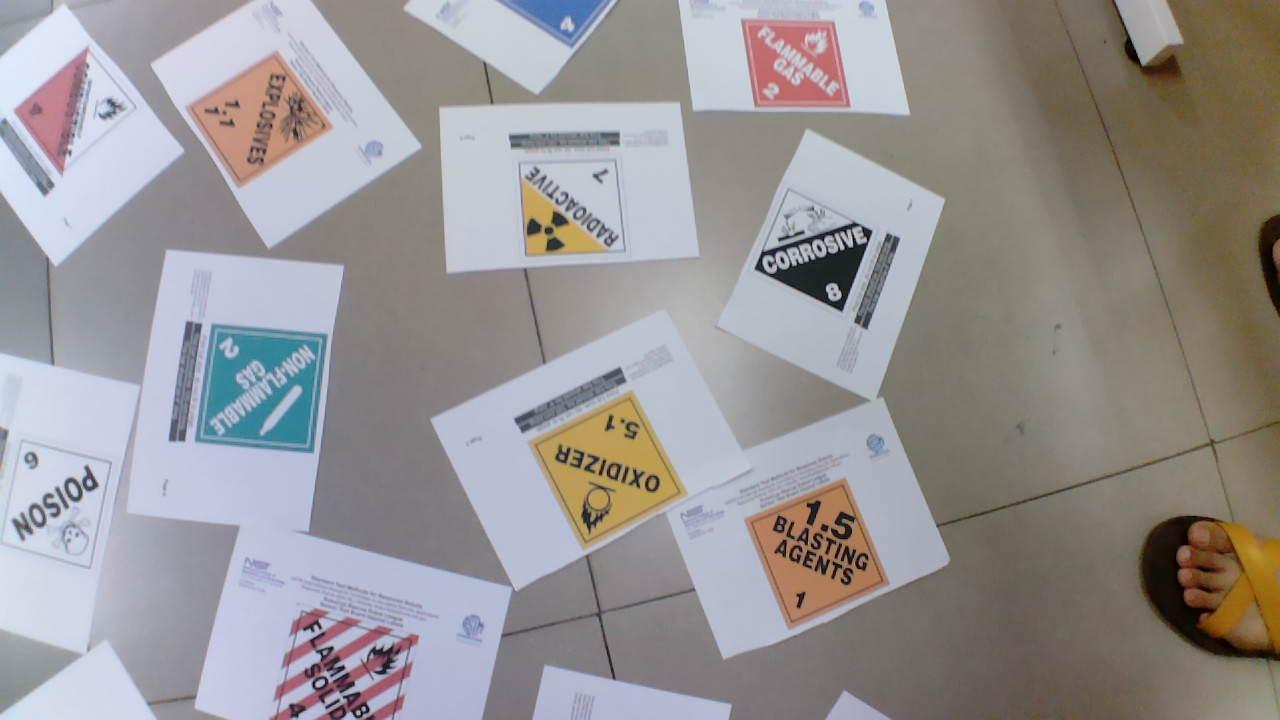corrosive: (757, 188, 878, 320)
dangerous-when-wet: (479, 1, 638, 48)
explosive: (182, 51, 338, 188), (742, 483, 889, 624)
flammable: (737, 16, 855, 116)
flammable-solid: (267, 604, 428, 720)
non-flammable-gas: (190, 316, 328, 467)
oxidizer: (532, 394, 692, 548)
poison: (2, 440, 122, 564)
radioactive: (519, 161, 636, 266)
spontaneously-combustible: (4, 46, 143, 175)
